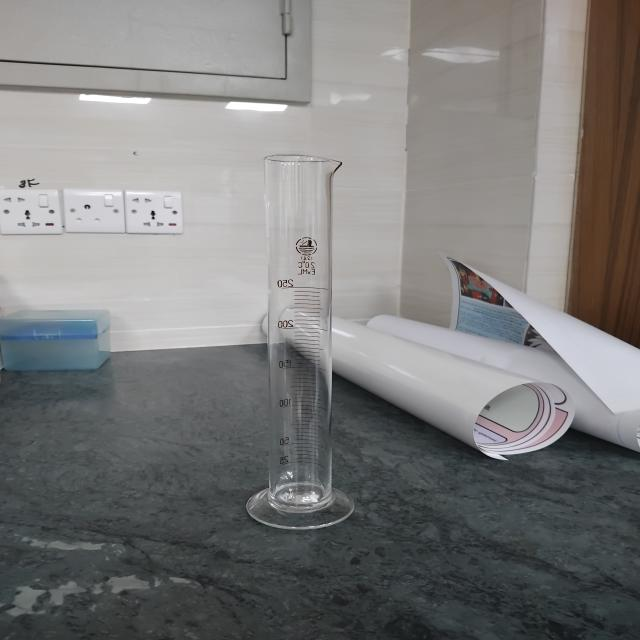Measuring_Cylinder: (208, 89, 414, 555)
